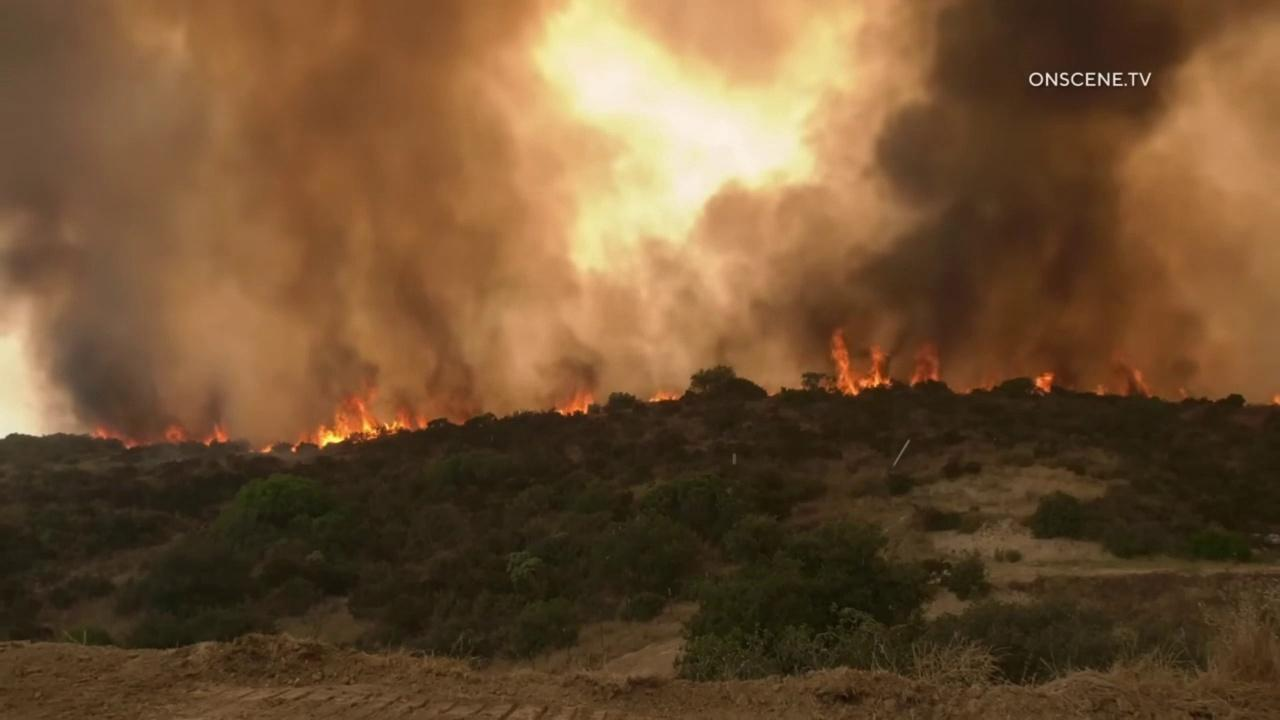fire: (290, 405, 432, 453), (95, 414, 242, 450), (828, 353, 894, 398), (542, 372, 588, 417), (941, 336, 959, 395), (1119, 336, 1136, 398), (1032, 368, 1053, 395), (253, 435, 280, 454), (654, 384, 681, 402), (766, 382, 790, 397), (911, 375, 940, 385), (1081, 384, 1105, 396), (1188, 387, 1206, 402), (968, 382, 977, 393), (1063, 383, 1073, 392)
smoke: (0, 0, 1280, 443)
